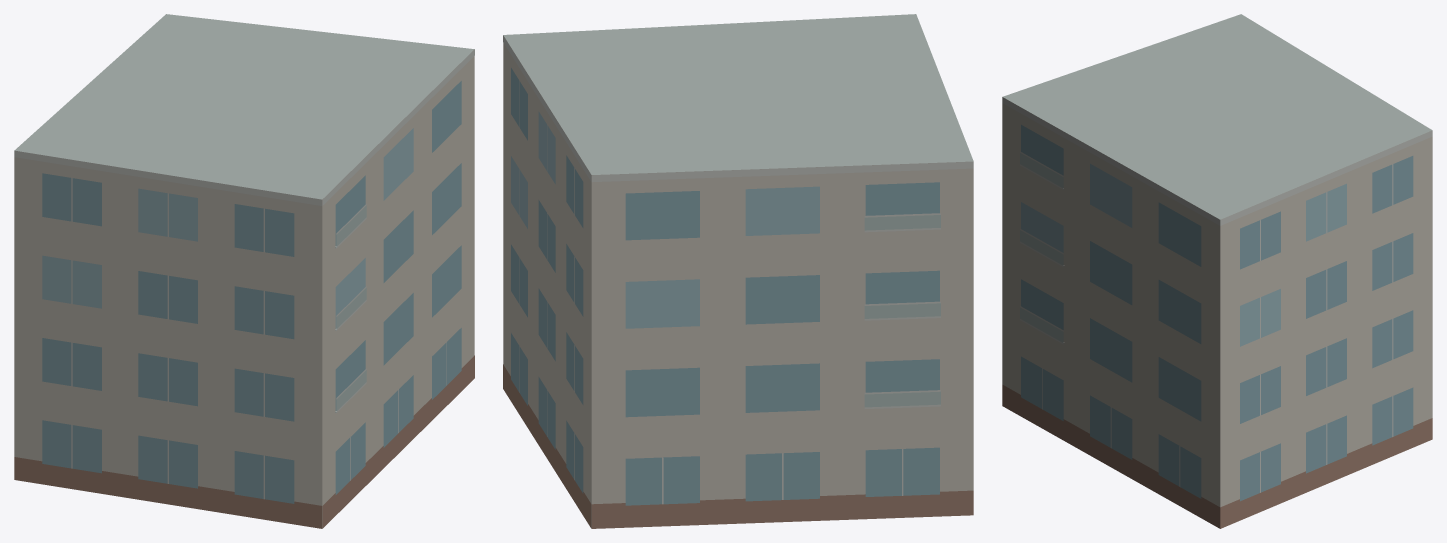
File: survey-upis-33043046.glb
3 renders of one model, left to right at view 1: azimuth 30°, elevation 25°; view 2: azimuth 150°, elevation 25°; view 3: azimuth 270°, elevation 25°, orthographic. The views are drawn at different scales.
Parts seen in each view (by area): view 1: survey-upis-33043046.tmp; view 2: survey-upis-33043046.tmp; view 3: survey-upis-33043046.tmp.
Part boxes in pixels (x1=…): survey-upis-33043046.tmp: x1=14, y1=14, x2=474, y2=528; survey-upis-33043046.tmp: x1=503, y1=14, x2=973, y2=528; survey-upis-33043046.tmp: x1=1002, y1=14, x2=1432, y2=528.
Size of the model in its own units: 17.43 by 12.2 by 15.4.
